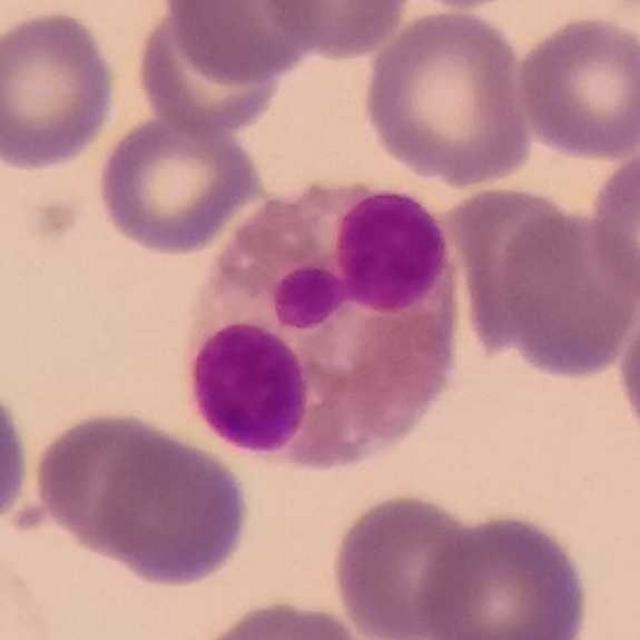Eosinophil: (181, 176, 469, 474)
RBC: (357, 3, 538, 190), (490, 200, 639, 382), (445, 181, 590, 363), (92, 112, 265, 258), (326, 488, 486, 640), (411, 508, 595, 640), (99, 442, 256, 586), (30, 410, 186, 548), (131, 4, 286, 140), (1, 4, 121, 175), (511, 11, 640, 163), (162, 0, 328, 85), (257, 0, 415, 61), (585, 140, 640, 308), (184, 594, 380, 640), (0, 371, 35, 541), (613, 282, 640, 463), (376, 0, 544, 12)
